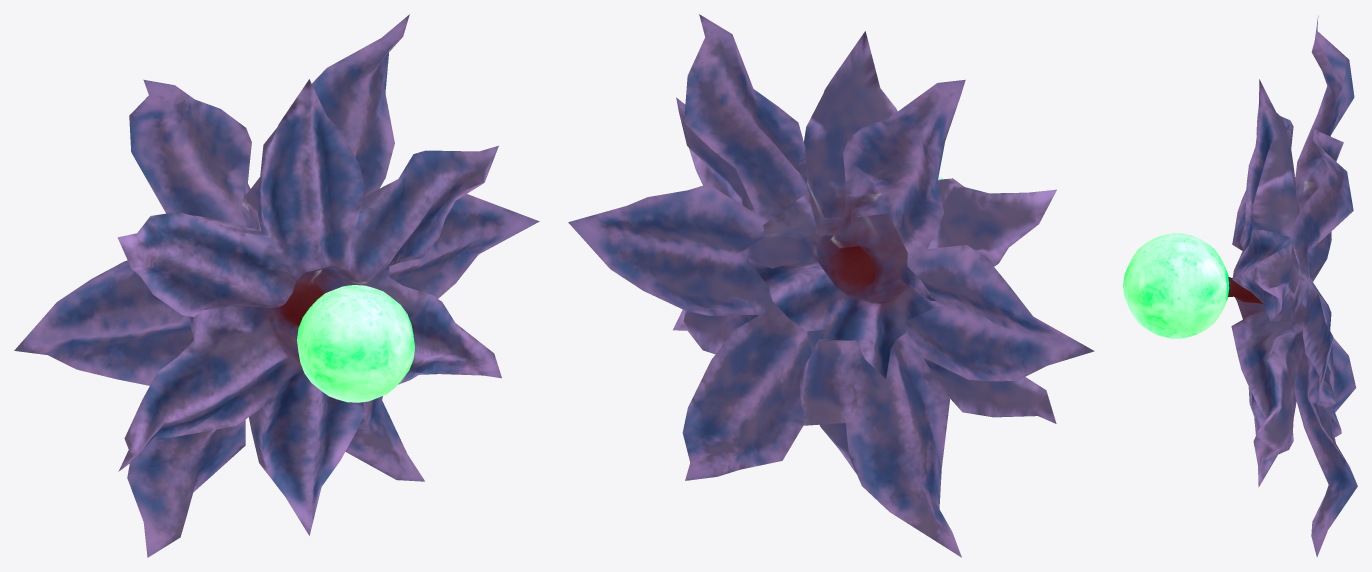
Rendered from Fleur_luminescente.fbx.
3 views of the same model, side by side, from view 1: azimuth 30°, elevation 25°; view 2: azimuth 150°, elevation 25°; view 3: azimuth 270°, elevation 25° (orthographic). The views are drawn at different scales.
Visible parts, largest first — view 1: Sphere; view 2: Sphere; view 3: Sphere.
Boxes of the visible parts, x1,y1,x2,y2 form: Sphere: (14,14,539,557); Sphere: (568,14,1094,557); Sphere: (1123,15,1357,557).
Size of the model in its own units: 191 by 166 by 82.35.
